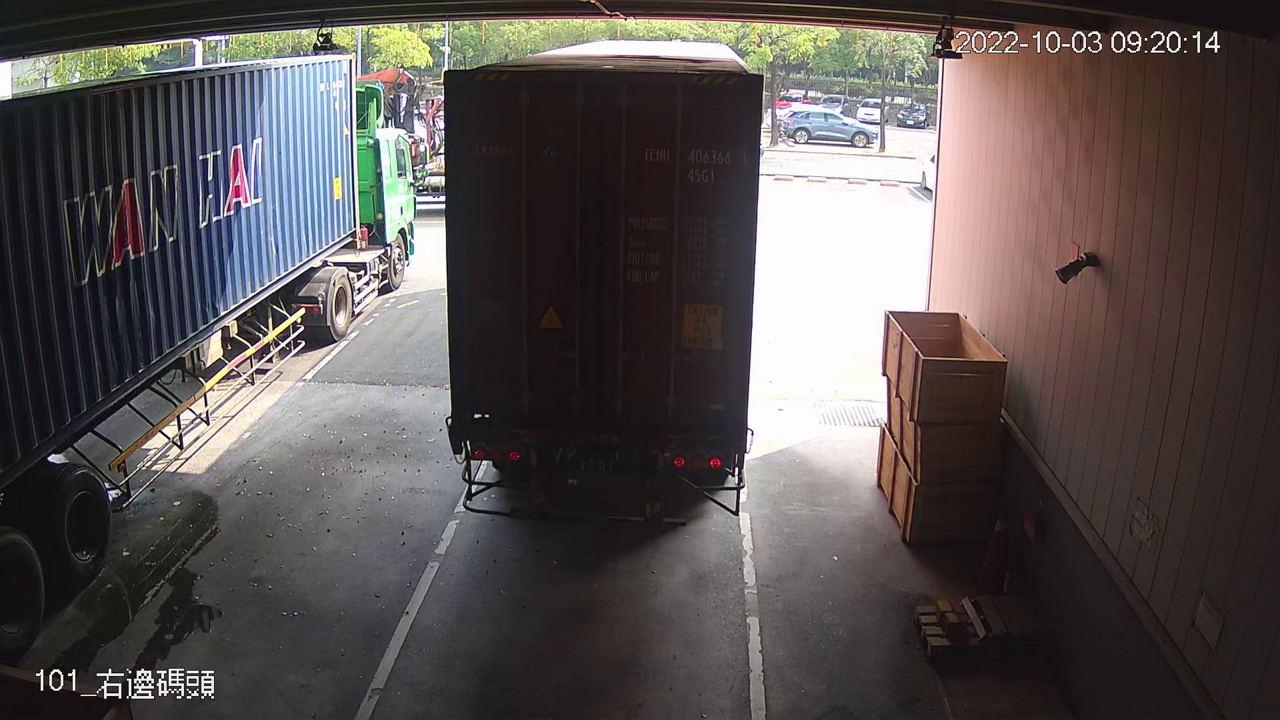container: (636, 139, 754, 189)
